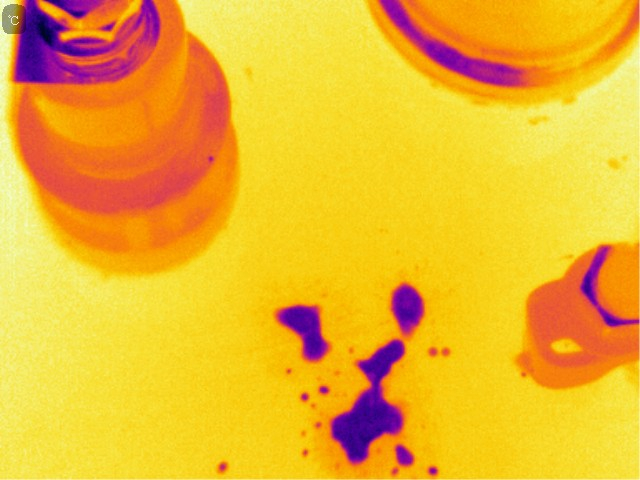Water: (332, 339, 415, 467), (274, 304, 331, 361), (379, 443, 446, 480), (388, 285, 426, 337), (293, 419, 325, 467), (297, 387, 333, 404), (213, 461, 229, 479), (425, 347, 450, 358), (426, 465, 440, 478)
